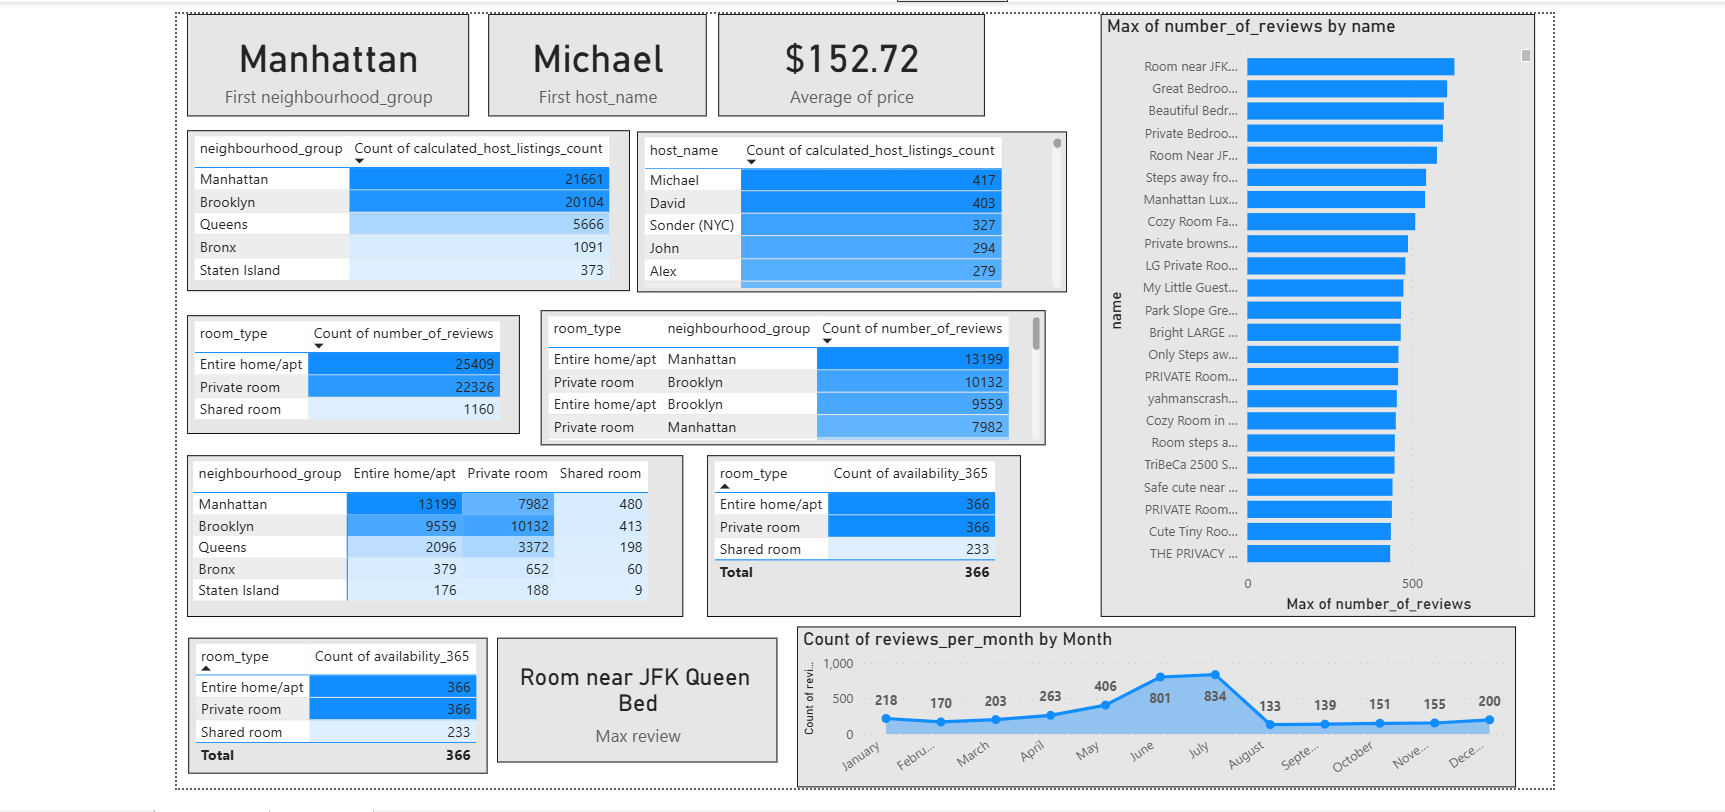

What the dashboard file says about the page in this screenshot:
{"tool":"powerbi","page":{"name":"Overview","canvas":[1280,720],"ordinal":0},"visuals":[{"type":"card","fields":{"Values":["Min(AB_NYC_2019.neighbourhood_group)"]},"box":[9.4,0,262.5,95.6],"z":0},{"type":"card","fields":{"Values":["Min(AB_NYC_2019.host_name)"]},"box":[289.4,0,203.3,95.6],"z":1000},{"type":"tableEx","fields":{"Values":["AB_NYC_2019.neighbourhood_group","CountNonNull(AB_NYC_2019.calculated_host_listings_count)"]},"box":[9.4,107.7,411.9,149.4],"z":2000},{"type":"tableEx","fields":{"Values":["AB_NYC_2019.host_name","CountNonNull(AB_NYC_2019.calculated_host_listings_count)"]},"box":[428.1,109,399.8,149.4],"z":3000},{"type":"card","fields":{"Values":["Avg(AB_NYC_2019.price)"]},"box":[503.5,0,247.7,95.6],"z":4000},{"type":"tableEx","fields":{"Values":["AB_NYC_2019.room_type","CountNonNull(AB_NYC_2019.number_of_reviews)"]},"box":[9.4,280,309.6,110.4],"z":5000},{"type":"tableEx","fields":{"Values":["AB_NYC_2019.room_type","AB_NYC_2019.neighbourhood_group","CountNonNull(AB_NYC_2019.number_of_reviews)"]},"box":[337.9,276,469.8,125.2],"z":6000},{"type":"pivotTable","fields":{"Rows":["AB_NYC_2019.neighbourhood_group"],"Columns":["AB_NYC_2019.room_type"],"Values":["CountNonNull(AB_NYC_2019.reviews_per_month)"]},"box":[9.4,410.6,461.8,150.8],"z":7000},{"type":"tableEx","fields":{"Values":["AB_NYC_2019.room_type","Count(AB_NYC_2019.availability_365)"]},"box":[492.7,410.6,292.1,150.8],"z":8000},{"type":"tableEx","fields":{"Values":["AB_NYC_2019.room_type","Count(AB_NYC_2019.availability_365)"]},"box":[10.8,580.2,278.7,126.5],"z":8001},{"type":"card","fields":{"Values":["Min(AB_NYC_2019.name)"]},"box":[297.5,580.2,261.2,115.8],"z":8004},{"type":"areaChart","fields":{"Category":["AB_NYC_2019.last_review.Variation.Date Hierarchy.Month"],"Y":["Count(AB_NYC_2019.reviews_per_month)"]},"box":[576.2,569.5,669.1,149.4],"z":8005},{"type":"barChart","fields":{"Category":["AB_NYC_2019.name"],"Y":["Max(AB_NYC_2019.number_of_reviews)"]},"box":[858.9,0,403.7,560.9],"z":8006}]}

Visuals, with their boxes in screenshot pixels (x1, y1, x2, y2):
card - Min(AB_NYC_2019.neighbourhood_group): (185, 13, 467, 116)
card - Min(AB_NYC_2019.host_name): (486, 13, 704, 116)
tableEx - AB_NYC_2019.neighbourhood_group x CountNonNull(AB_NYC_2019.calculated_host_listings_count): (185, 129, 628, 290)
tableEx - AB_NYC_2019.host_name x CountNonNull(AB_NYC_2019.calculated_host_listings_count): (635, 131, 1065, 291)
card - Avg(AB_NYC_2019.price): (716, 13, 982, 116)
tableEx - AB_NYC_2019.room_type x CountNonNull(AB_NYC_2019.number_of_reviews): (185, 314, 518, 433)
tableEx - AB_NYC_2019.room_type x AB_NYC_2019.neighbourhood_group: (538, 310, 1043, 444)
pivotTable - AB_NYC_2019.neighbourhood_group x AB_NYC_2019.room_type: (185, 455, 681, 617)
tableEx - AB_NYC_2019.room_type x Count(AB_NYC_2019.availability_365): (704, 455, 1018, 617)
tableEx - AB_NYC_2019.room_type x Count(AB_NYC_2019.availability_365): (187, 637, 486, 773)
card - Min(AB_NYC_2019.name): (495, 637, 775, 761)
areaChart - AB_NYC_2019.last_review.Variation.Date Hierarchy.Month x Count(AB_NYC_2019.reviews_per_month): (794, 625, 1513, 786)
barChart - AB_NYC_2019.name x Max(AB_NYC_2019.number_of_reviews): (1098, 13, 1531, 616)
